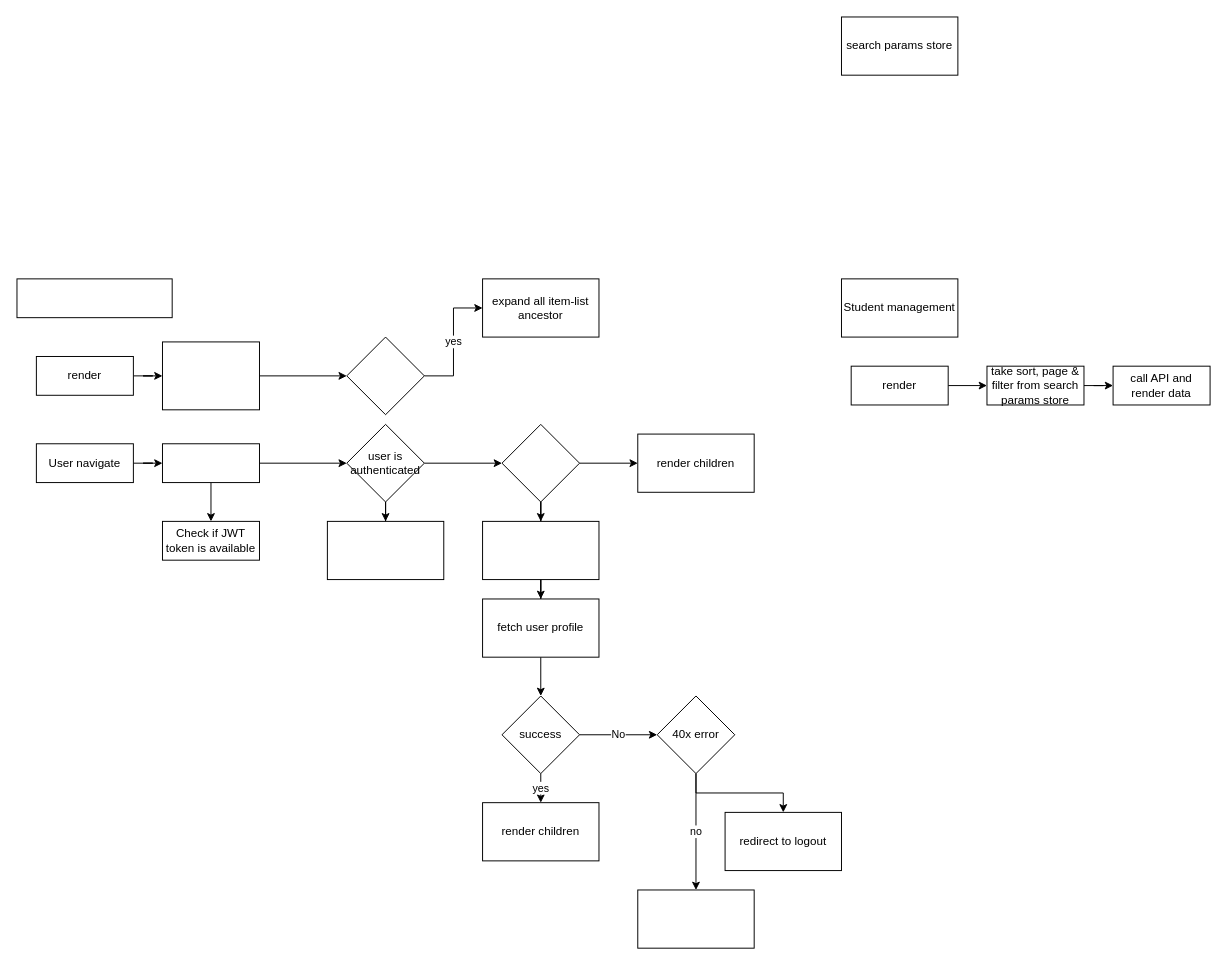
This 1227x965 diagram has some shape labels left out. Each missing label, with the centre of its shape:
"Check if user is authenticated" goes at point 210,463.
"display loading indicator" goes at point 540,550.
"find the match route of navigation drawer to current route" goes at point 210,375.
"Homelayout" goes at point 94,298.
"is userprofile avai" goes at point 540,462.
"match found?" goes at point 385,375.
"redirect to login page" goes at point 385,550.
"render error page" goes at point 695,918.
